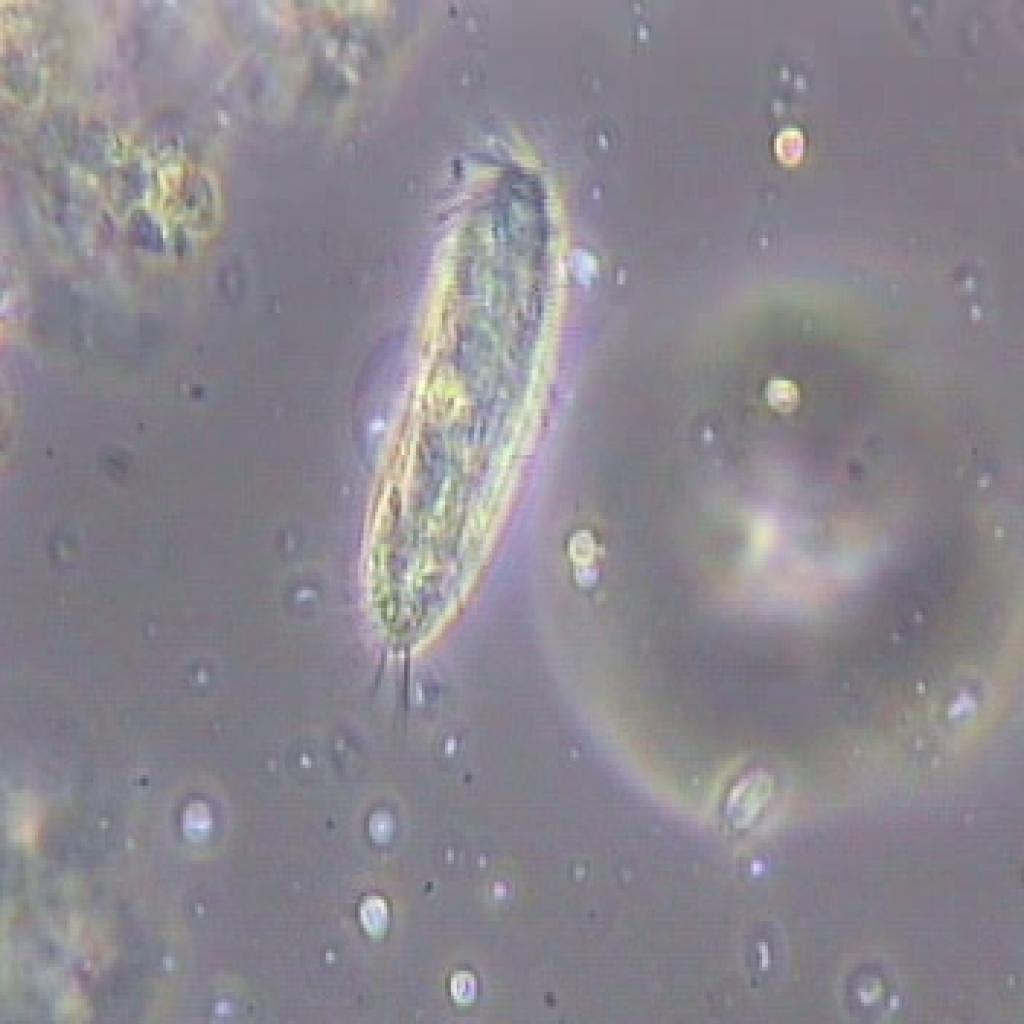Stylonychia: (349, 100, 573, 743)
